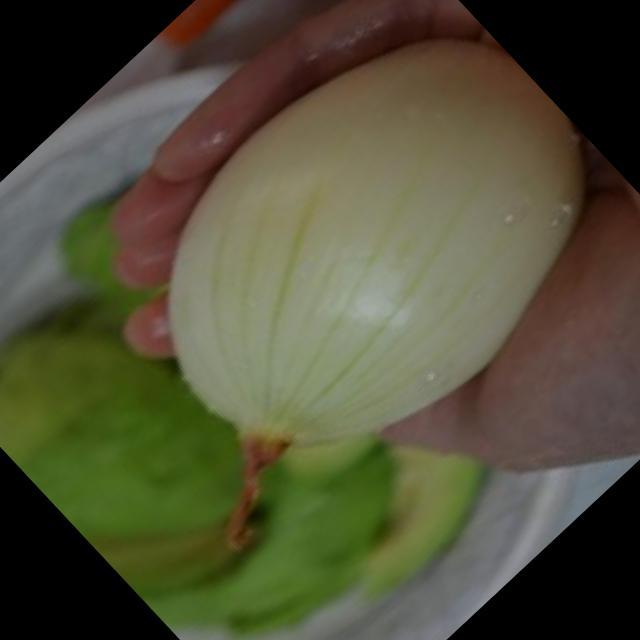Onion: (170, 41, 580, 444)
